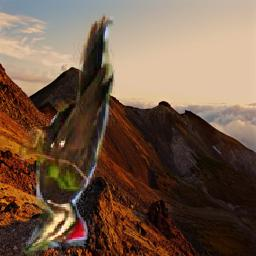Woodpecker: (19, 14, 115, 256)
